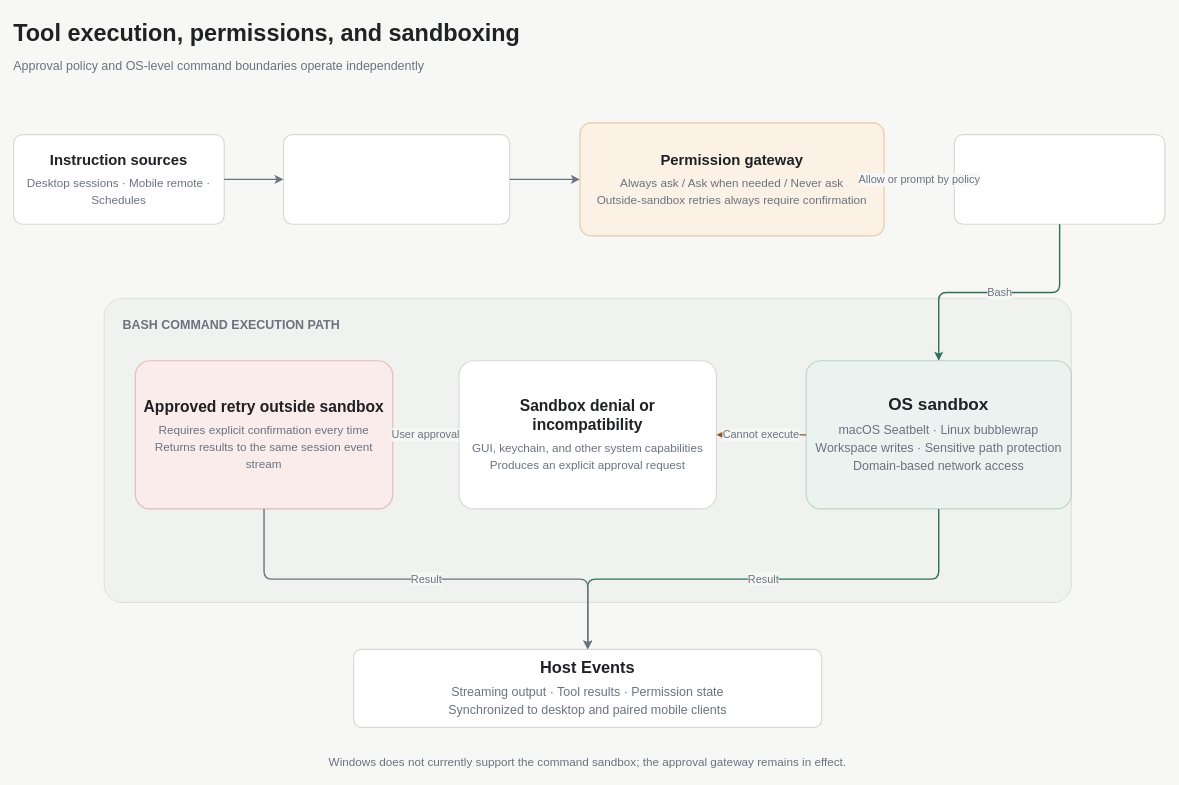
This 1179x785 diagram has some shape labels left out. Here are the shapes that lost their labels. From the top down, the centre of each, then its label:
[396,179]: SessionController Resolves tool calls Applies session and project rules
[1059,179]: Tool dispatch read / write / edit / Bash Web / Todo / Task / MCP
